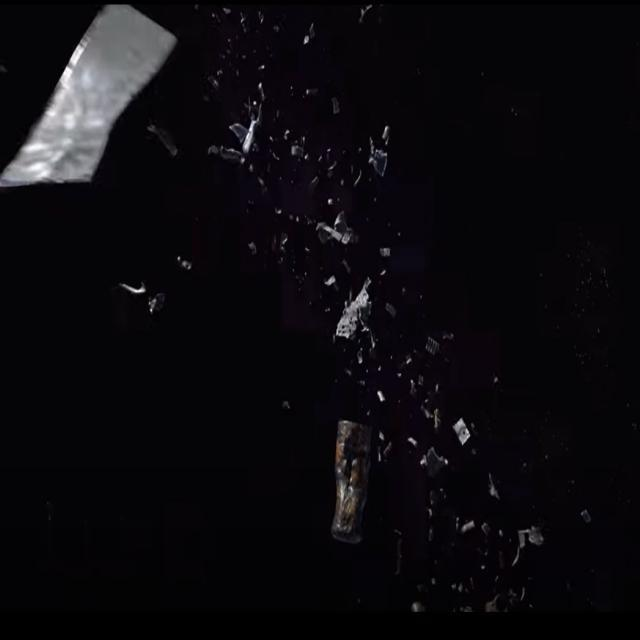large_debris: (0, 0, 189, 204), (207, 80, 271, 168), (330, 416, 373, 538), (332, 278, 374, 341), (365, 124, 395, 178), (315, 212, 355, 247), (141, 121, 175, 161), (513, 525, 547, 565), (423, 439, 449, 485), (298, 18, 322, 46), (452, 413, 470, 446), (121, 274, 146, 296), (291, 137, 311, 161), (480, 589, 499, 614), (488, 469, 500, 507), (459, 516, 480, 534), (357, 5, 379, 21), (384, 300, 400, 322), (449, 580, 470, 596), (406, 431, 422, 450), (427, 337, 439, 361), (581, 503, 592, 528), (324, 272, 342, 286), (459, 600, 477, 614), (358, 352, 370, 372), (382, 439, 395, 457), (411, 598, 425, 613), (250, 238, 262, 254), (433, 409, 442, 430), (380, 245, 392, 259), (281, 231, 289, 251), (422, 407, 431, 423), (520, 580, 526, 604), (442, 334, 456, 344), (377, 388, 387, 402), (405, 352, 415, 366), (332, 95, 339, 113), (430, 574, 442, 584), (492, 371, 500, 385), (497, 526, 507, 536), (284, 130, 292, 142), (377, 430, 389, 437), (223, 5, 233, 13), (257, 13, 267, 21), (274, 26, 282, 36), (260, 61, 270, 69), (327, 195, 335, 205), (378, 451, 382, 466), (423, 394, 429, 404), (193, 0, 199, 9), (210, 10, 216, 18), (239, 10, 242, 26), (227, 33, 235, 39), (217, 67, 225, 73), (434, 381, 440, 389), (303, 86, 309, 92), (290, 82, 290, 88)
